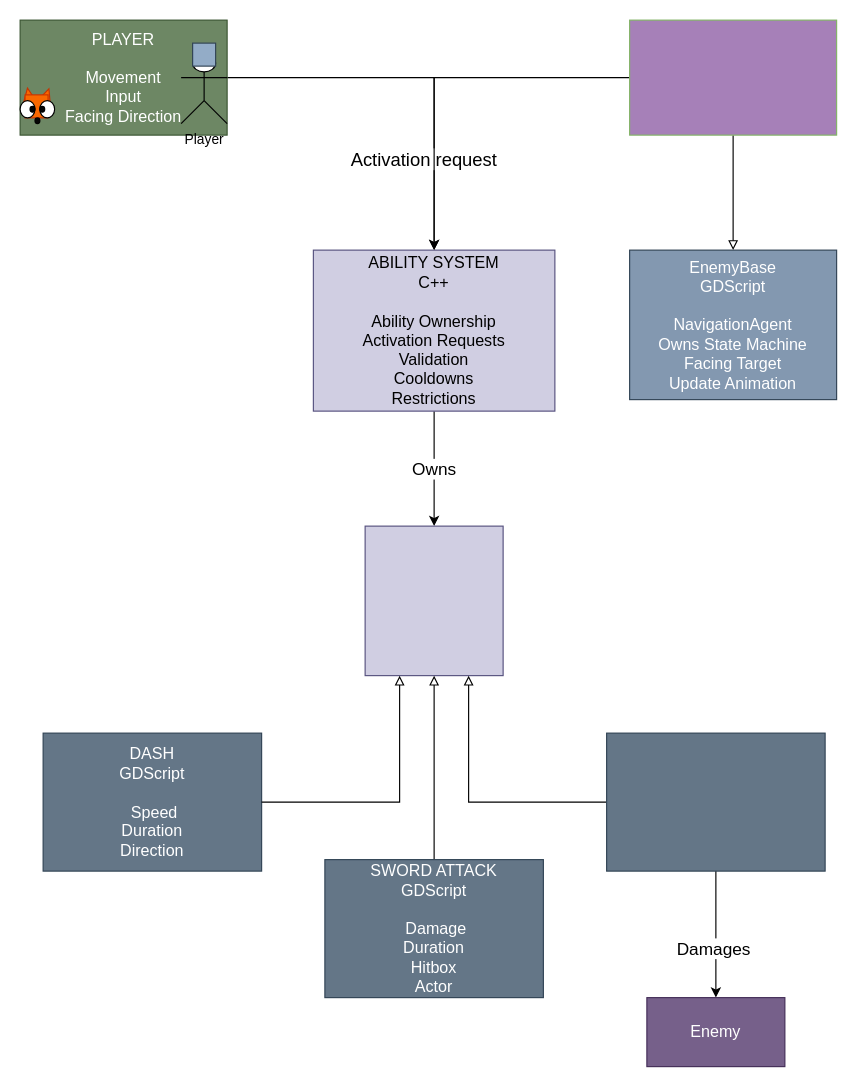
Some shapes in this 857 by 1087 pixel diagram are drawn without their labels. Each missing label, with the centre of its shape:
"ABILITY C++ State Cooldown Activate Finish" belongs at (433,600).
"GROUND SLAM GDScript Slam Speed Damage Radius" belongs at (715,801).
"MeleeEnemy Handling Cooldown Attack Properties" belongs at (732,77).
